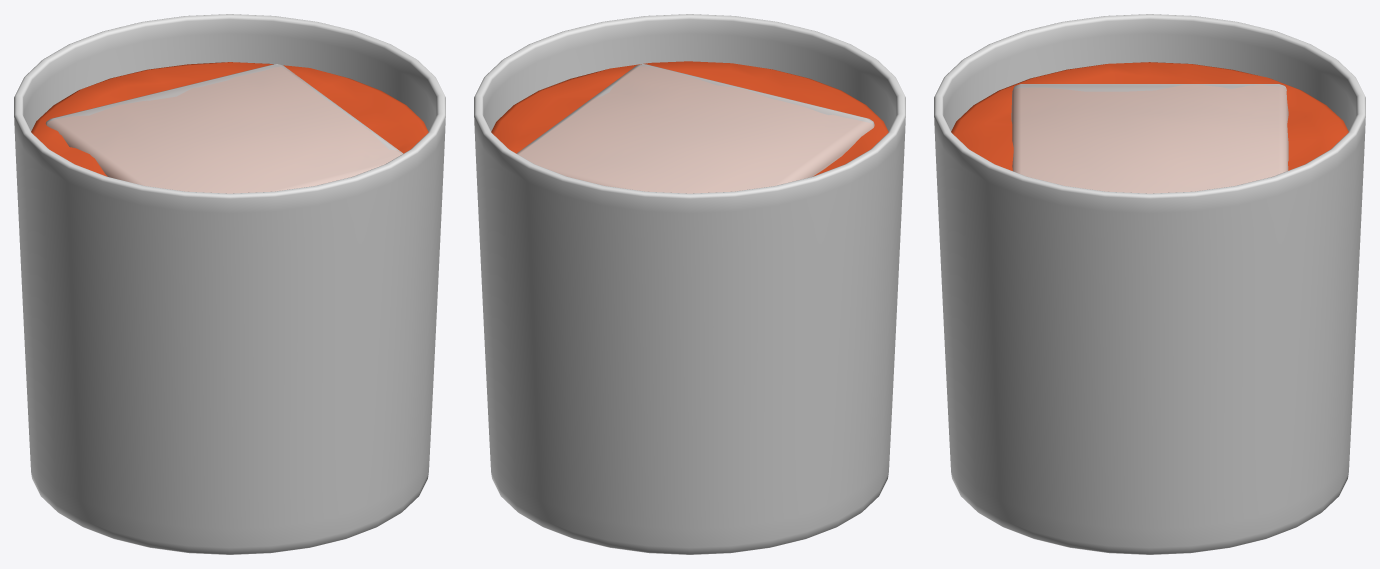
3 views of the same model, side by side, from view 1: azimuth 30°, elevation 25°; view 2: azimuth 150°, elevation 25°; view 3: azimuth 270°, elevation 25° (orthographic).
Parts seen in each view (by area): view 1: Old fashioned; view 2: Old fashioned; view 3: Old fashioned.
Boxes of the visible parts, x1,y1,x2,y2 form: Old fashioned: (14,14,445,554); Old fashioned: (474,14,905,554); Old fashioned: (934,14,1365,554).
Size of the model in its own units: 0.0744 by 0.0695 by 0.074.
